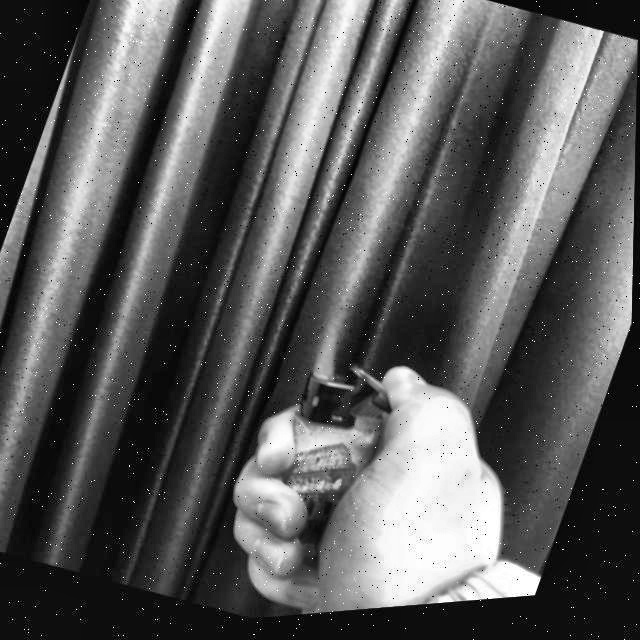Fire: (310, 320, 354, 388)
